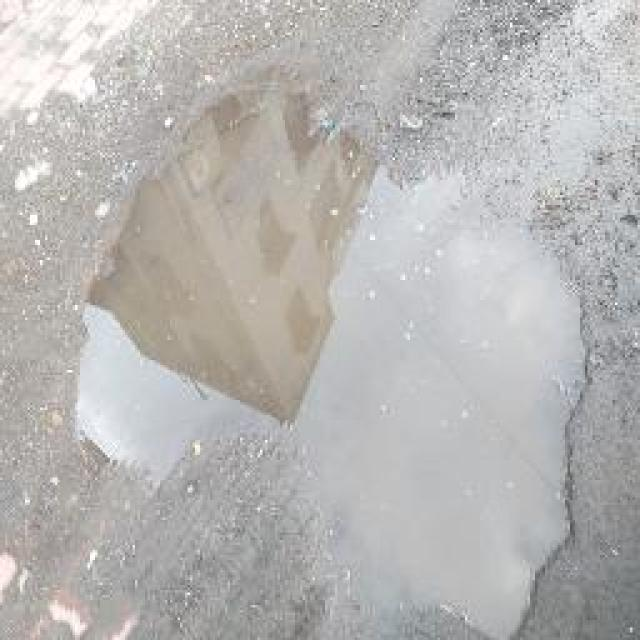puddle: (84, 107, 572, 626)
